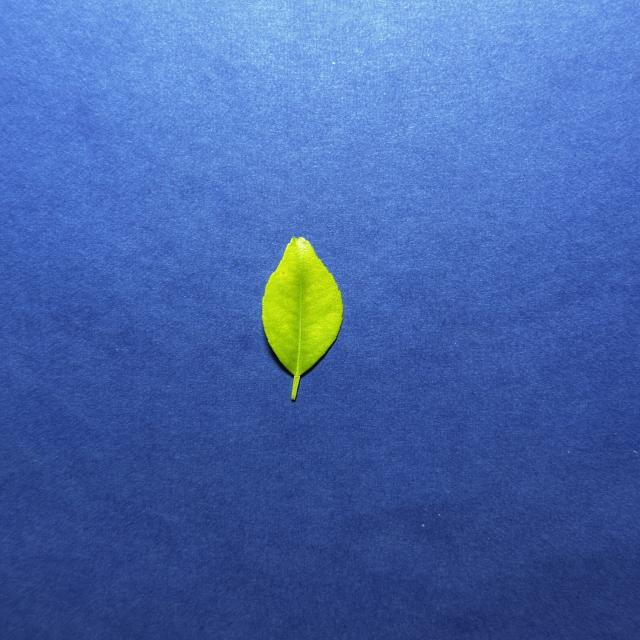greening: (262, 237, 343, 400)
